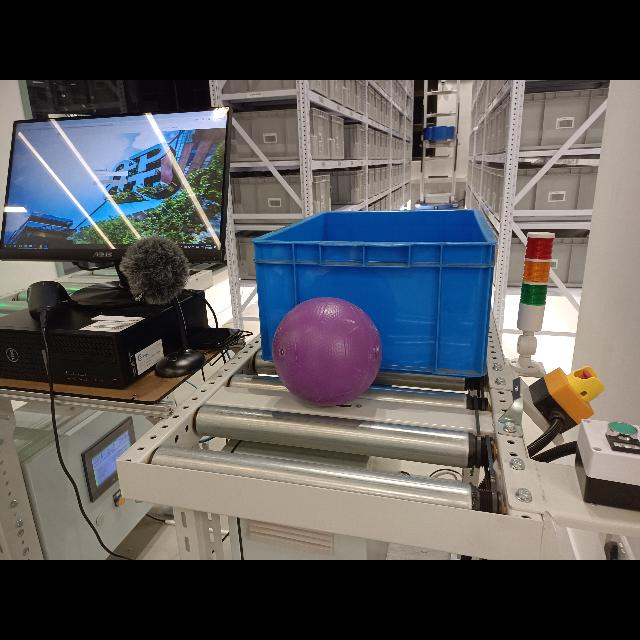P: (277, 299, 385, 405)
